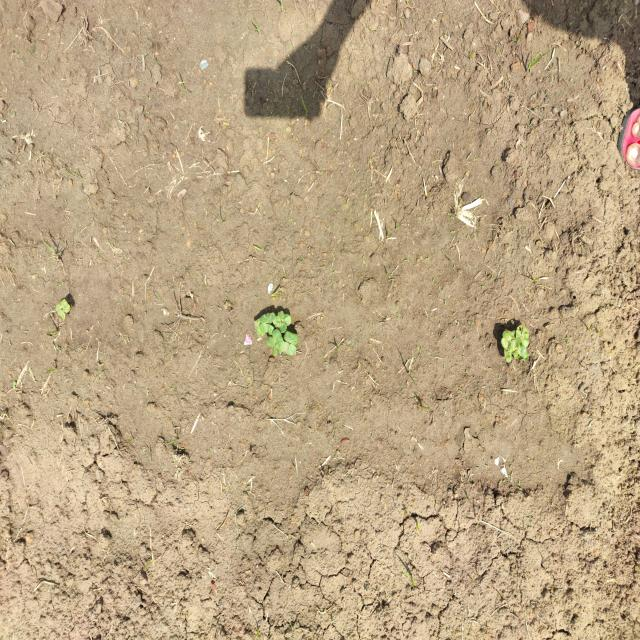seedling: (272, 329, 284, 353), (501, 338, 512, 362), (273, 316, 287, 333), (283, 331, 298, 345), (277, 311, 291, 326), (267, 336, 277, 356), (518, 342, 529, 360), (259, 312, 275, 324), (259, 323, 274, 335), (254, 319, 264, 337), (507, 339, 520, 352), (502, 330, 517, 341), (284, 342, 296, 355), (60, 299, 71, 313), (56, 304, 65, 321), (522, 326, 529, 347), (516, 324, 523, 342)
